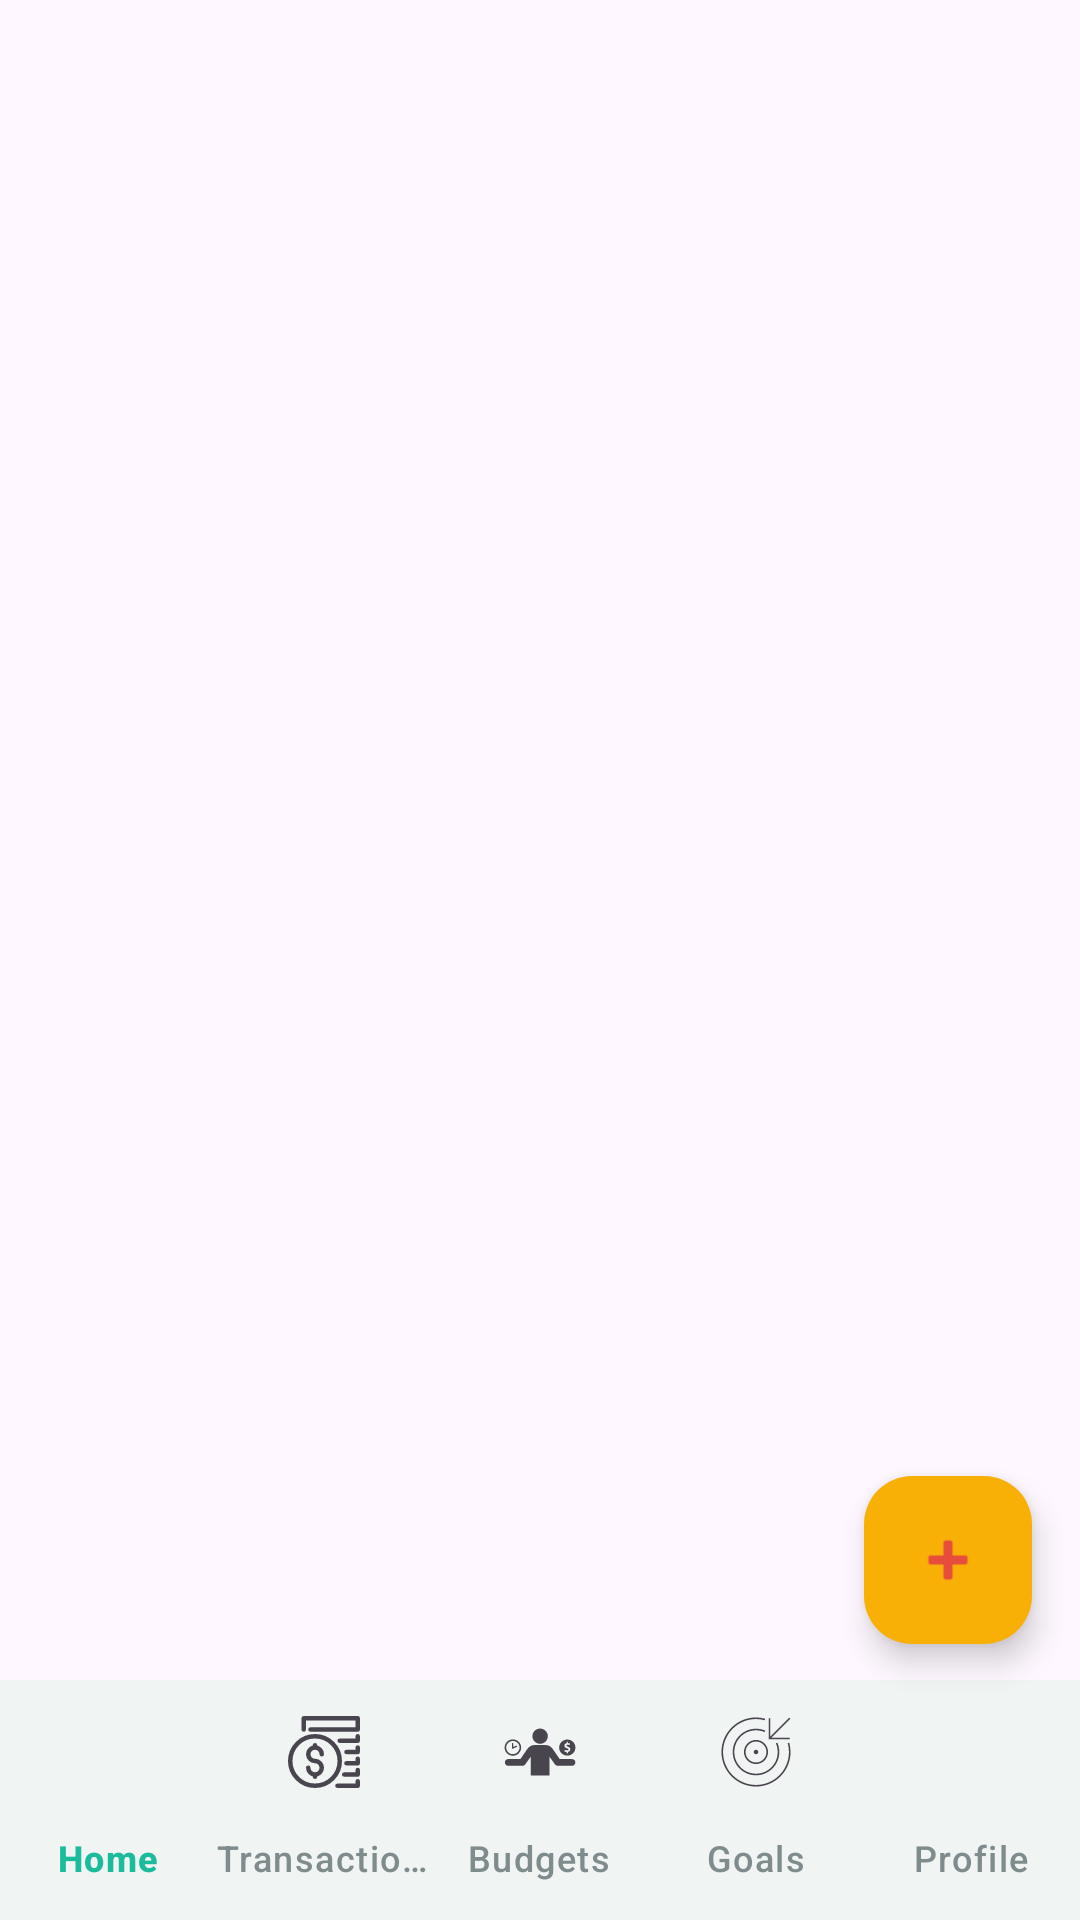

Screen size 1080w x 1920h. Icon name, then its box in pixels as (x1, y1, x2, y2):
Add Transaction: (864, 1476, 1032, 1644)
